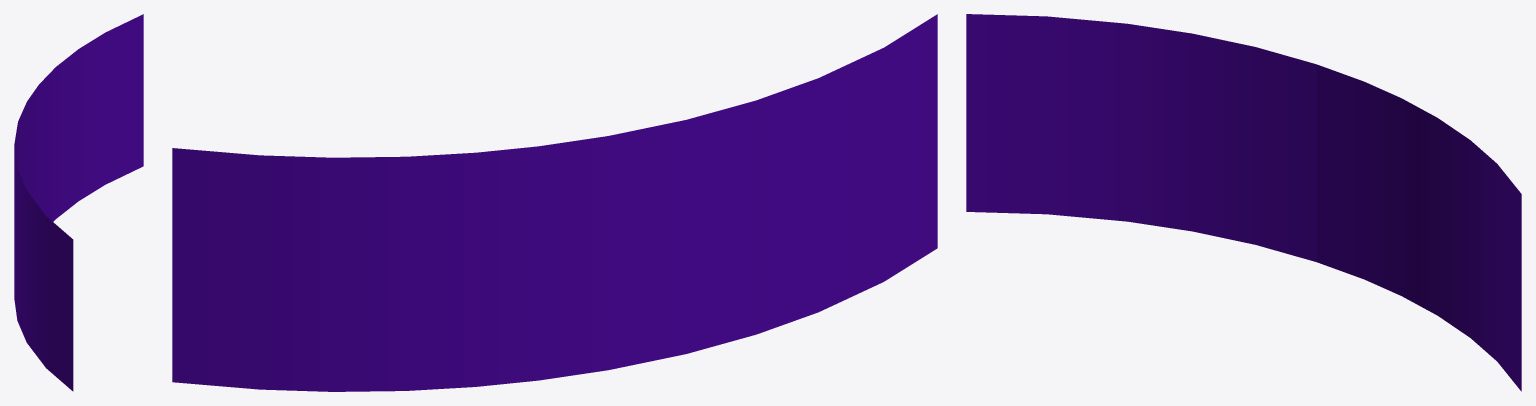
File: Ironworks_04_Half.fbx
3 views of the same model, side by side, from view 1: azimuth 30°, elevation 25°; view 2: azimuth 150°, elevation 25°; view 3: azimuth 270°, elevation 25° (orthographic). The views are drawn at different scales.
Visible parts, largest first — view 1: Ironworks_04_Half; view 2: Ironworks_04_Half; view 3: Ironworks_04_Half.
Part boxes in pixels (<box>): Ironworks_04_Half: <box>14,14,143,391</box>; Ironworks_04_Half: <box>172,14,937,391</box>; Ironworks_04_Half: <box>966,14,1521,391</box>.
Bounding box in the file's own units: 155 × 79.6 × 202.
